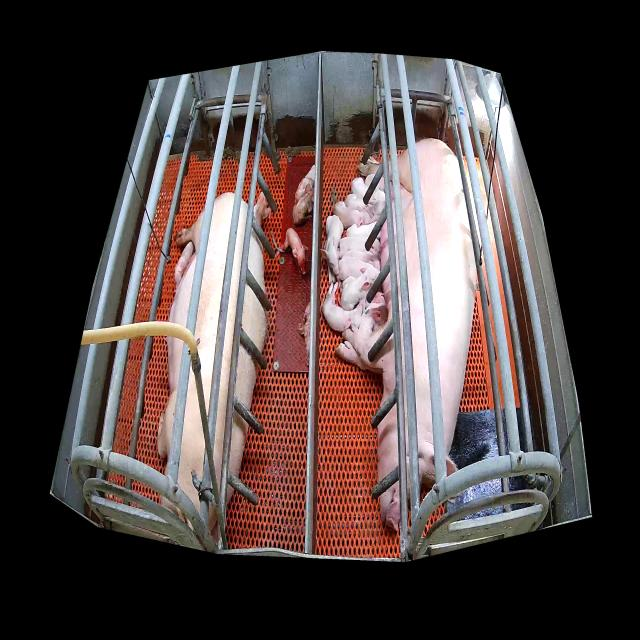pig: (333, 139, 482, 532), (157, 192, 267, 548), (324, 283, 364, 331), (341, 267, 381, 310), (275, 228, 308, 276), (323, 215, 344, 285), (344, 194, 386, 223), (335, 200, 374, 230), (340, 236, 381, 263), (359, 302, 388, 338), (337, 255, 373, 283), (294, 163, 315, 208), (174, 242, 193, 291), (294, 182, 314, 226), (352, 177, 386, 202), (298, 302, 310, 368), (345, 222, 381, 241), (254, 190, 271, 227), (364, 174, 385, 190)
